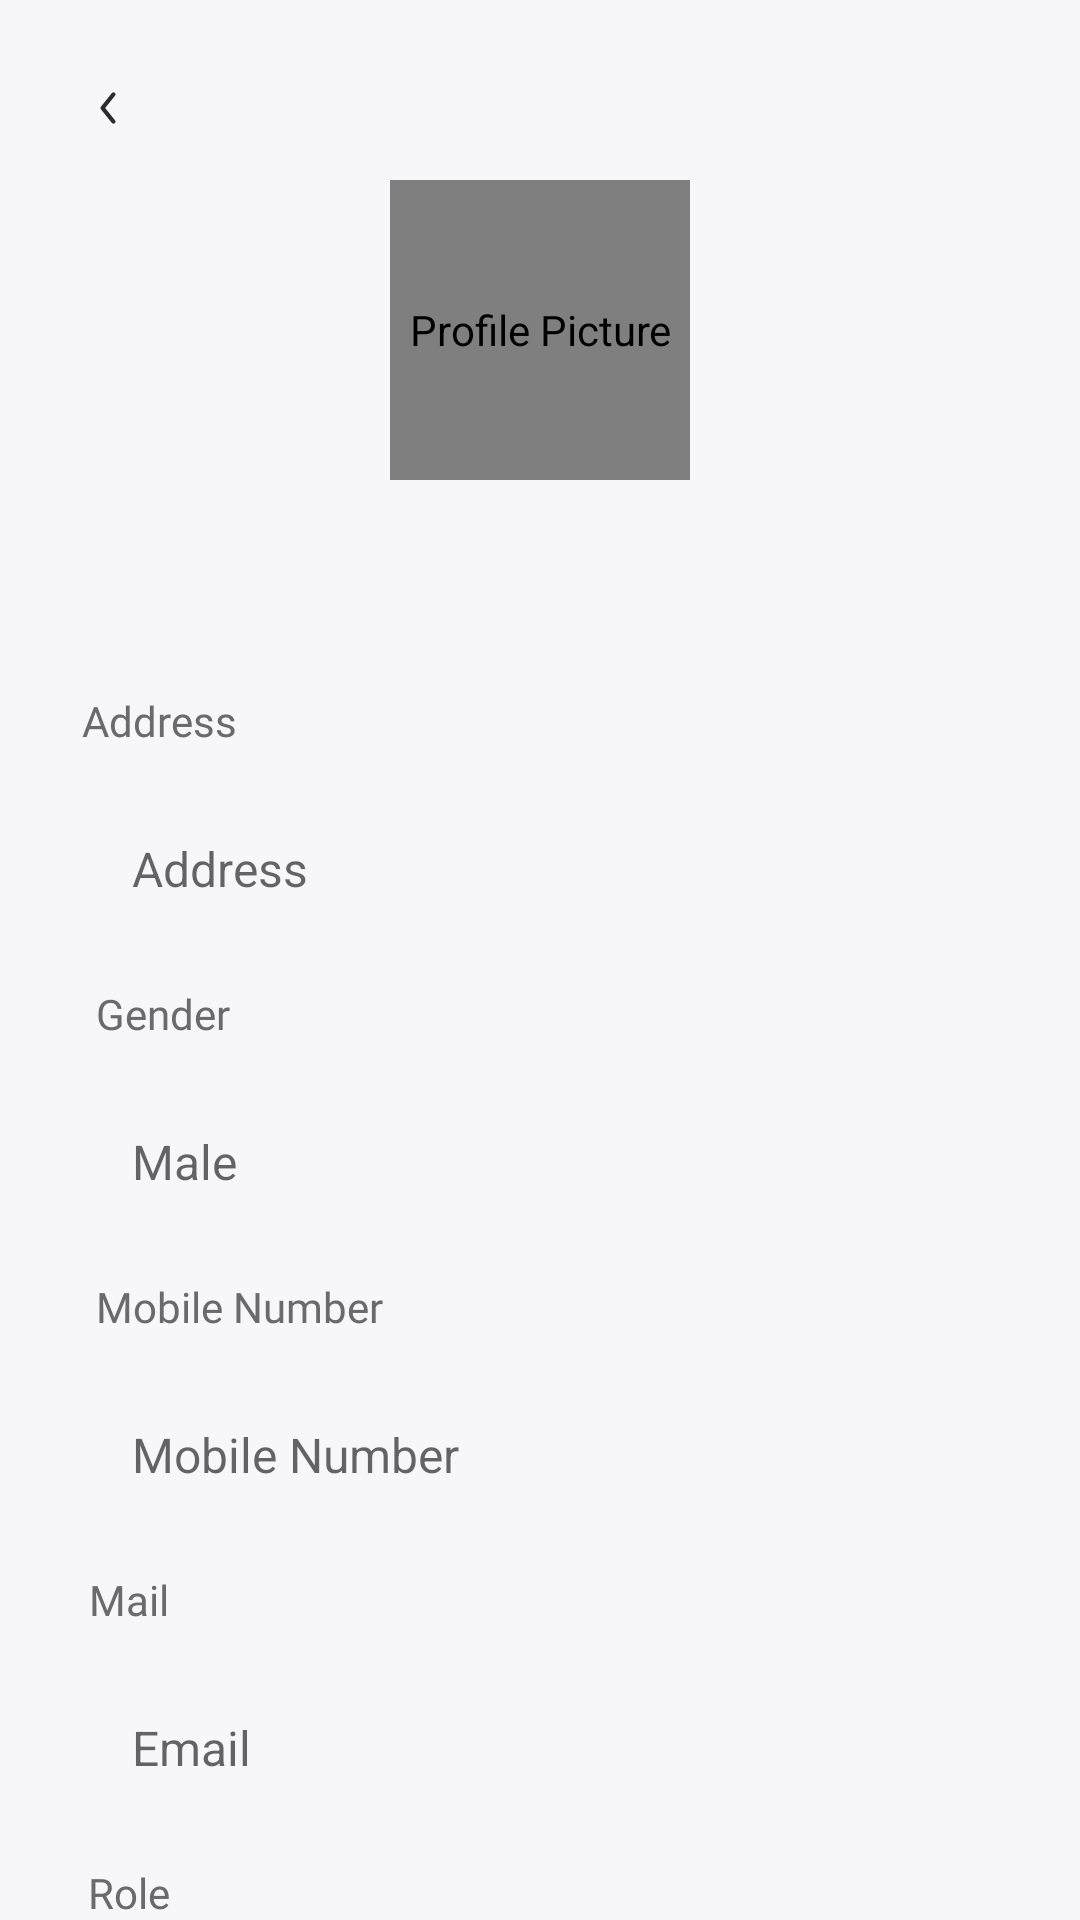

Where to tap for icons on this 1080x1920 app screen, as [x,y]:
back arrow: [108,108]
